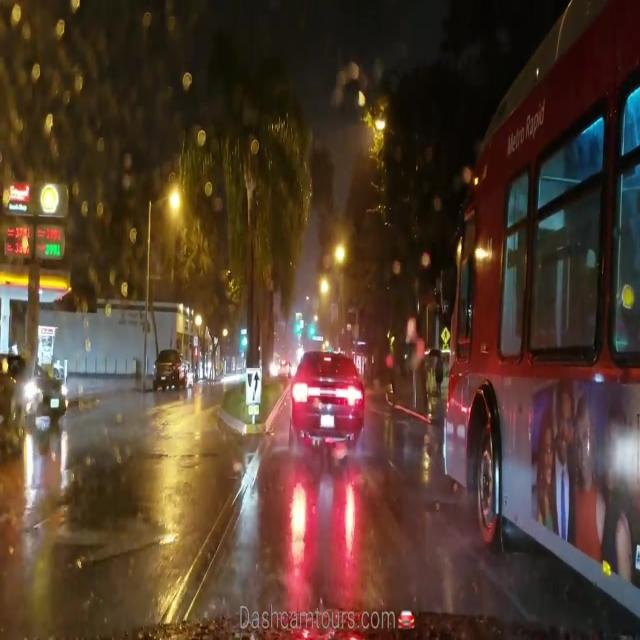Car: (285, 349, 362, 455), (0, 354, 65, 429), (153, 349, 189, 391)
